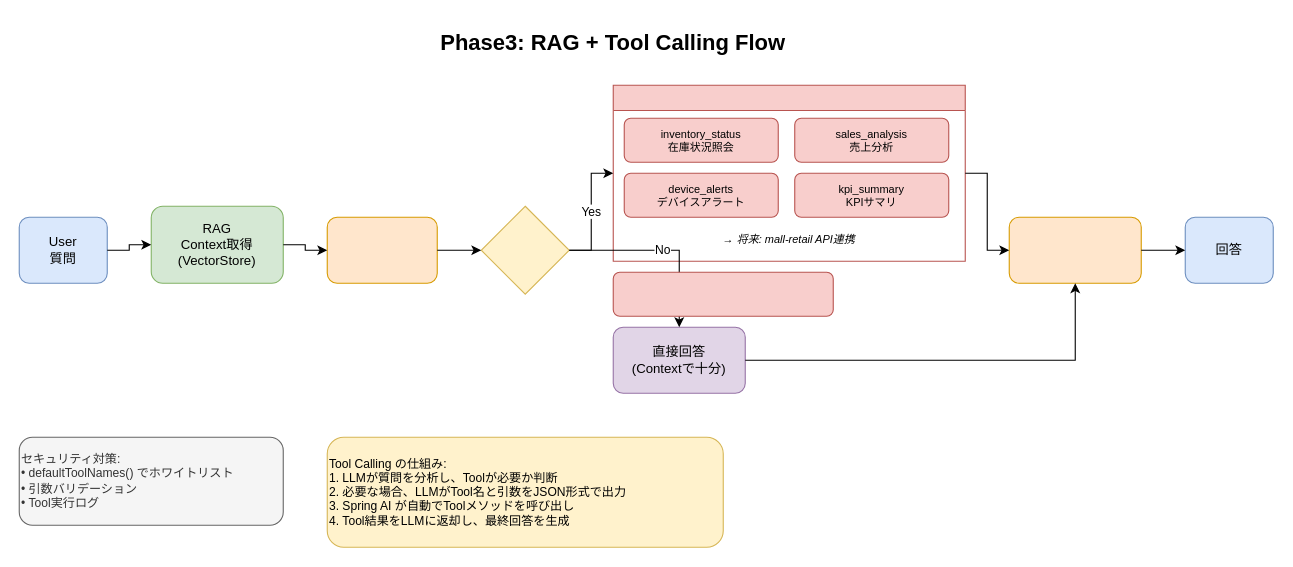
Image size: 1293x567. Some labels were removed from this diagram. Here are the shapes that lost their labels. From the top down, the box of each, then its label:
(612, 84, 965, 261): Tool 実行
(326, 216, 437, 283): LLM分析 (Ollama)
(480, 205, 569, 294): Tool 必要?
(1008, 216, 1141, 283): LLM 最終回答生成
(612, 271, 833, 316): @Tool アノテーション Spring AI が自動でLLMと連携
